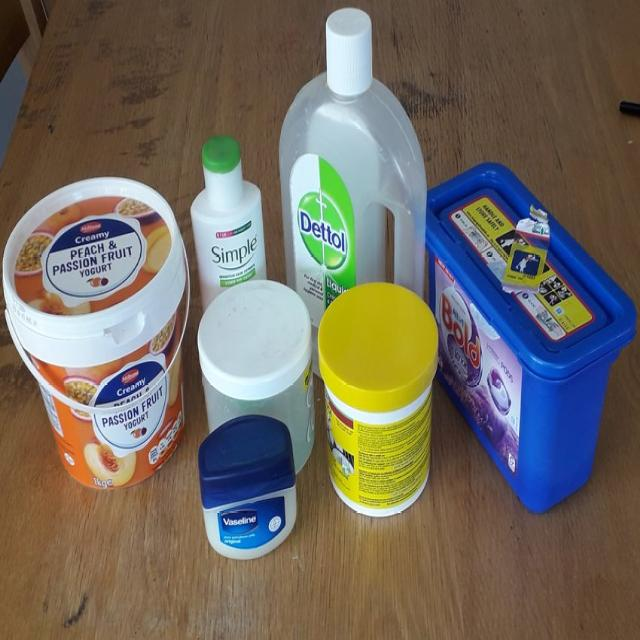plastic: (430, 162, 636, 509), (2, 173, 192, 492), (275, 5, 426, 294), (197, 282, 311, 561), (320, 283, 438, 516), (186, 139, 270, 281)
